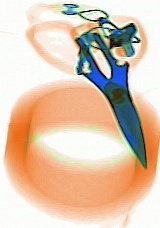scissors: (24, 12, 148, 170)
